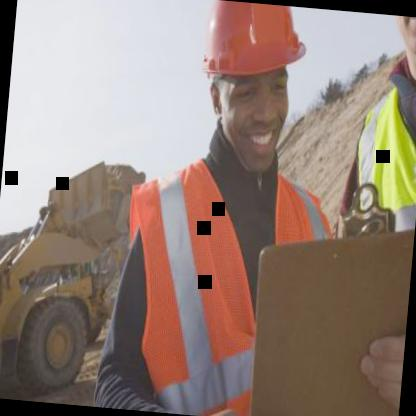helmet: (178, 0, 320, 168)
